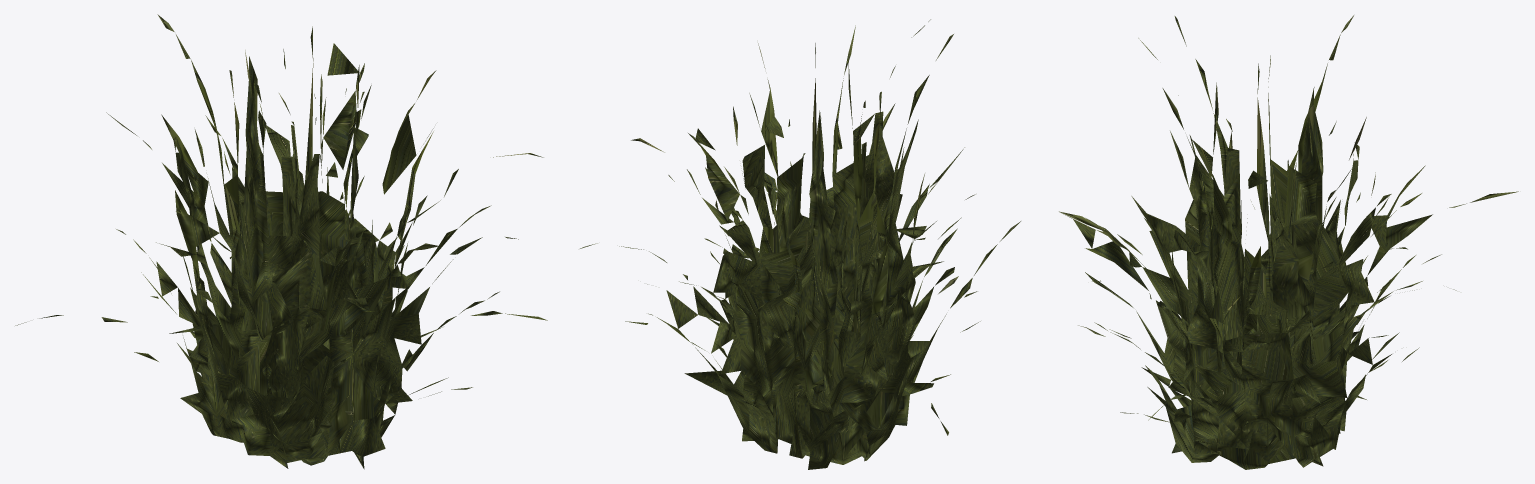
The model's file is plant_b.glb.
3 views of the same model, side by side, from view 1: azimuth 30°, elevation 25°; view 2: azimuth 150°, elevation 25°; view 3: azimuth 270°, elevation 25° (orthographic). The views are drawn at different scales.
Size of the model in its own units: 0.8352 by 0.7595 by 0.8313.
Materials: 1 (1 with a texture image).
